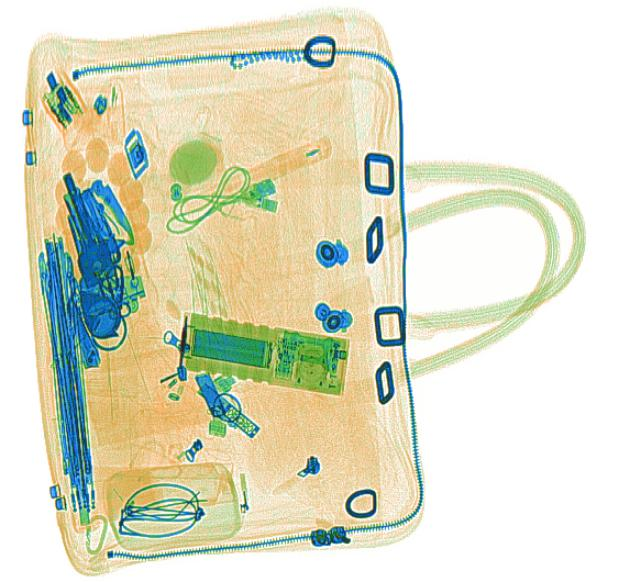battery: (189, 327, 274, 370)
knife: (80, 177, 135, 247)
